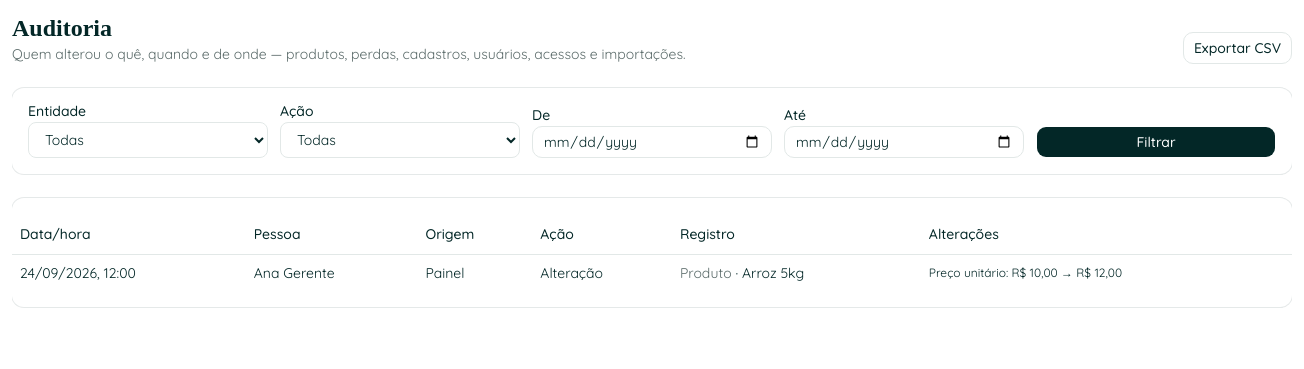
Test case: AuditPage › erro da API (ex.: exportação grande demais) aparece na tela
The width and height of the screenshot is (1304, 369).
Click the button "Exportar CSV" at (1237, 48), box [1183, 32, 1292, 64]
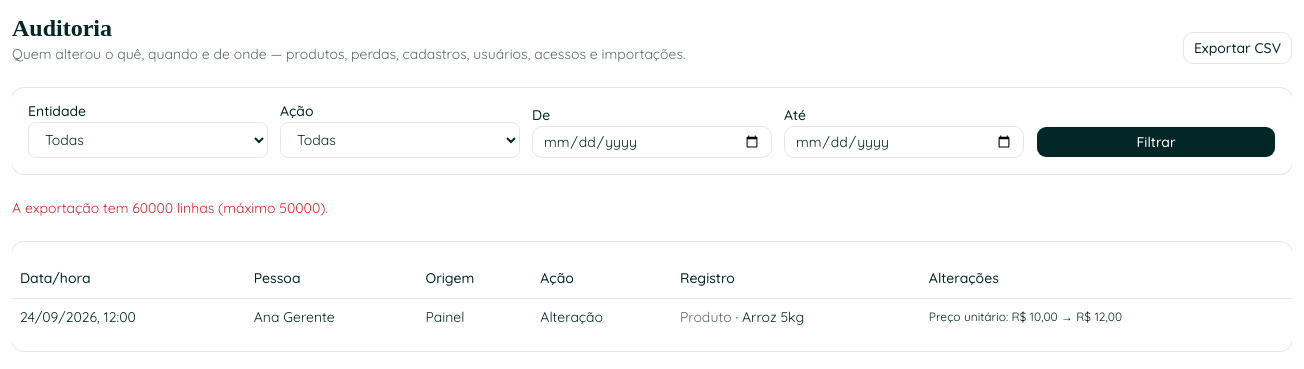
Result: the text "A exportação tem 60000 linhas (máximo 50000)." is shown at [12, 199, 328, 217]
